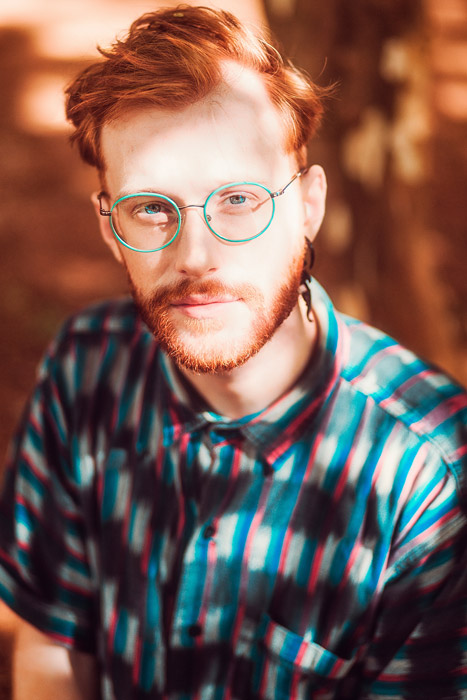male: (1, 4, 467, 700)
